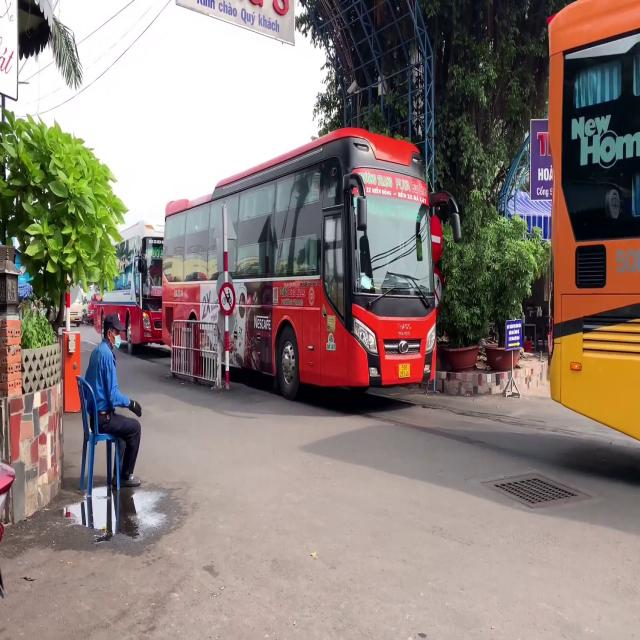bien_vang: (398, 361, 412, 380)
